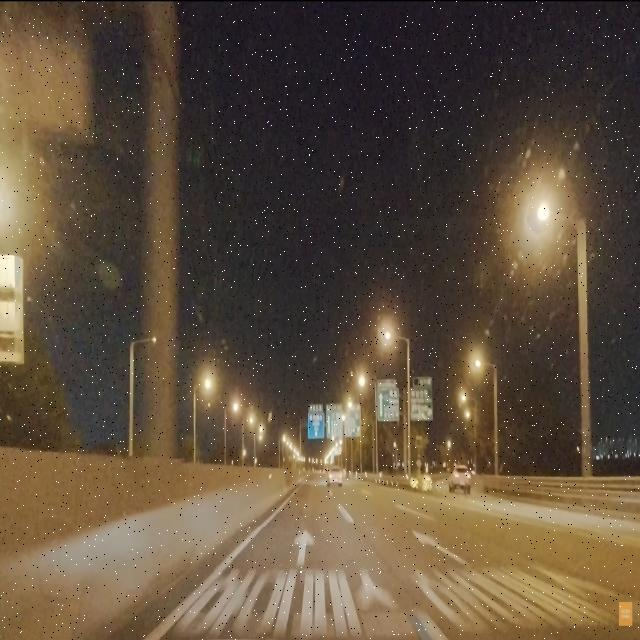forward: (216, 528, 392, 572)
